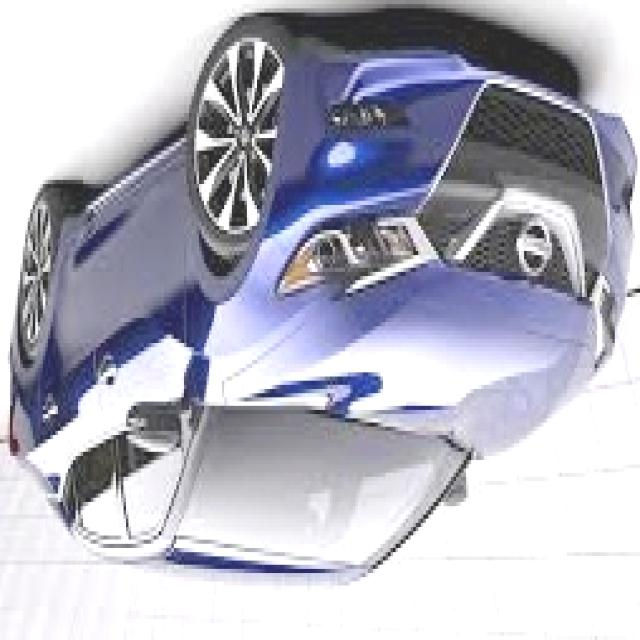blue: (10, 38, 634, 588)
